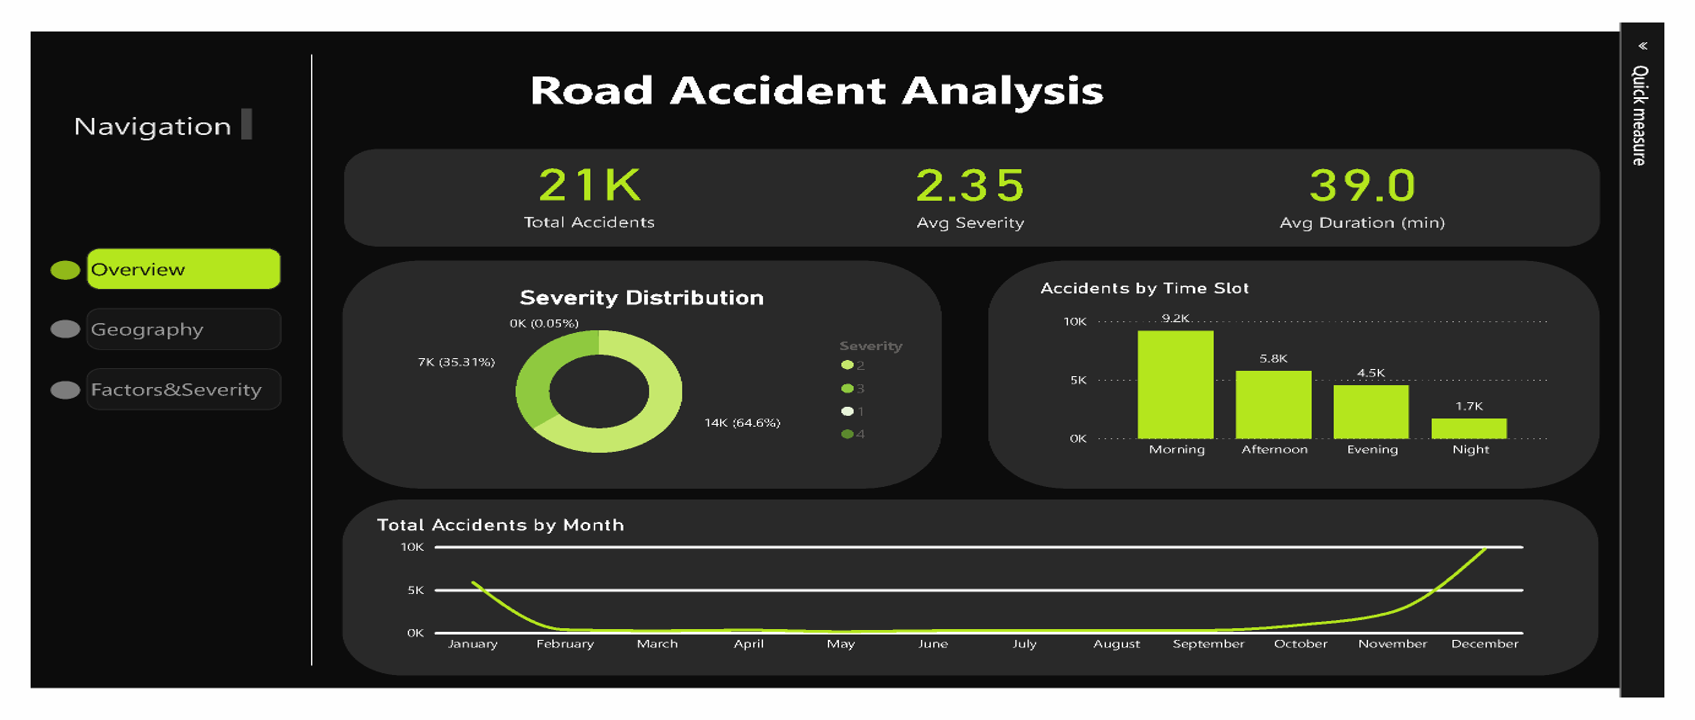

This screenshot's page, from the dashboard's own definition file:
{"tool":"powerbi","page":{"name":"Overview","canvas":[1280,720],"ordinal":0},"visuals":[{"type":"pageNavigator","box":[39.8,231.9,167.4,189.4],"z":0},{"type":"shape","box":[16.5,251.1,23.3,20.6],"z":1000},{"type":"shape","box":[16.5,382.8,23.3,20.6],"z":2000},{"type":"shape","box":[16.5,315.6,23.3,20.6],"z":3000},{"type":"shape","box":[193.8,25,65,670],"z":4000},{"type":"shape","box":[243.8,120,1028.8,123.8],"z":5000},{"type":"card","fields":{"Values":["depi projectt (1).Total Accidents"]},"box":[360,123.8,180,97.5],"z":6000},{"type":"shape","box":[251.2,512.5,1011.2,193.8],"z":7000},{"type":"shape","box":[251.2,251.2,482.5,250],"z":8000},{"type":"shape","box":[771.2,251.2,492.5,250],"z":9000},{"type":"card","fields":{"Values":["depi projectt (1).Avg Severity"]},"box":[646.2,112.5,221.2,120],"z":10000},{"type":"card","fields":{"Values":["depi projectt (1).Avg Duration (min)"]},"box":[957.5,112.5,230,120],"z":11000},{"type":"lineChart","fields":{"Y":["depi projectt (1).Total Accidents"],"Category":["Dim_Date.Month"]},"box":[273.8,530,933.8,158.8],"z":12000},{"type":"donutChart","title":"Severity Distribution","fields":{"Y":["Sum(severity_distribution.Total Accidents)"],"Category":["severity_distribution.Severity"]},"box":[258.8,278.8,467.5,207.5],"z":13000},{"type":"clusteredColumnChart","title":"Accidents by Time Slot","fields":{"Category":["accidents_by_time_slot.Time Slot"],"Y":["Sum(accidents_by_time_slot.Total Accidents)"]},"box":[807.5,271.2,420,215],"z":14000},{"type":"textbox","box":[396.2,27.5,487.5,85],"z":15000},{"type":"textbox","box":[28.8,78.8,153.8,45],"z":16000}]}

Visuals, with their boxes on the page's 1280x720 design canvas (x1, y1, x2, y2). These are canvas units, not pixel positions in the 1695x720 screenshot, which may show the page scaled, cropped or inside an application window:
pageNavigator: <box>40,232,207,421</box>
shape: <box>16,251,40,272</box>
shape: <box>16,383,40,403</box>
shape: <box>16,316,40,336</box>
shape: <box>194,25,259,695</box>
shape: <box>244,120,1273,244</box>
card - depi projectt (1).Total Accidents: <box>360,124,540,221</box>
shape: <box>251,512,1262,706</box>
shape: <box>251,251,734,501</box>
shape: <box>771,251,1264,501</box>
card - depi projectt (1).Avg Severity: <box>646,112,867,232</box>
card - depi projectt (1).Avg Duration (min): <box>958,112,1188,232</box>
lineChart - depi projectt (1).Total Accidents x Dim_Date.Month: <box>274,530,1208,689</box>
"Severity Distribution" donutChart: <box>259,279,726,486</box>
"Accidents by Time Slot" clusteredColumnChart: <box>808,271,1228,486</box>
textbox: <box>396,28,884,112</box>
textbox: <box>29,79,183,124</box>
